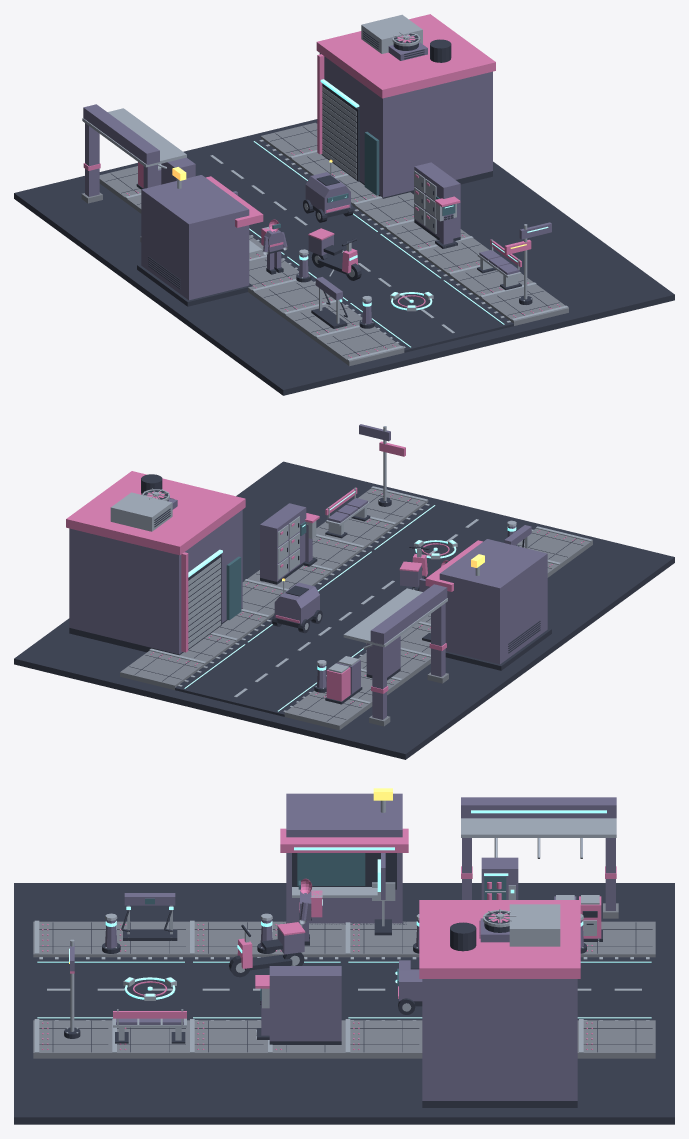
File: neon-dispatch.glb
3 renders of one model, top to bottom at view 1: azimuth 30°, elevation 25°; view 2: azimuth 150°, elevation 25°; view 3: azimuth 270°, elevation 25°, orthographic. The views are drawn at different scales.
Visible parts, largest first — view 1: terrain-base, 21-neon-dispatch-parcel-hub/shell, 22-neon-dispatch-dispatch-kiosk/shell, 21-neon-dispatch-parcel-hub/accent, 04-neon-dispatch-courier-lane/dark, 03-neon-dispatch-courier-lane/dark, 01-neon-dispatch-courier-lane/dark, 21-neon-dispatch-parcel-hub/metal, 02-neon-dispatch-courier-lane/dark, 23-neon-dispatch-arcade-front/shell, 12-neon-dispatch-pavement-strip/paving, 21-neon-dispatch-parcel-hub/dark (+22 smaller); view 2: terrain-base, 21-neon-dispatch-parcel-hub/shell, 22-neon-dispatch-dispatch-kiosk/shell, 21-neon-dispatch-parcel-hub/accent, 01-neon-dispatch-courier-lane/dark, 04-neon-dispatch-courier-lane/dark, 02-neon-dispatch-courier-lane/dark, 21-neon-dispatch-parcel-hub/metal, 03-neon-dispatch-courier-lane/dark, 23-neon-dispatch-arcade-front/shell, 24-neon-dispatch-parcel-lockers/shell, 13-neon-dispatch-pavement-strip/paving (+22 smaller); view 3: terrain-base, 21-neon-dispatch-parcel-hub/shell, 21-neon-dispatch-parcel-hub/accent, 04-neon-dispatch-courier-lane/dark, 22-neon-dispatch-dispatch-kiosk/shell, 24-neon-dispatch-parcel-lockers/shell, 01-neon-dispatch-courier-lane/dark, 03-neon-dispatch-courier-lane/dark, 23-neon-dispatch-arcade-front/shell, 02-neon-dispatch-courier-lane/dark, 23-neon-dispatch-arcade-front/metal, 16-neon-dispatch-pavement-strip/paving (+28 smaller).
Part boxes in pixels (box(x1,y1,x2,y2)): terrain-base: box(14, 119, 674, 395); 21-neon-dispatch-parcel-hub/shell: box(319, 53, 492, 197); 22-neon-dispatch-dispatch-kiosk/shell: box(141, 175, 249, 300); 21-neon-dispatch-parcel-hub/accent: box(316, 14, 495, 154); 04-neon-dispatch-courier-lane/dark: box(344, 277, 513, 352); 03-neon-dispatch-courier-lane/dark: box(281, 231, 450, 303); 01-neon-dispatch-courier-lane/dark: box(187, 138, 311, 202); 21-neon-dispatch-parcel-hub/metal: box(322, 14, 422, 179); 02-neon-dispatch-courier-lane/dark: box(248, 189, 386, 256); 23-neon-dispatch-arcade-front/shell: box(83, 104, 159, 196); 12-neon-dispatch-pavement-strip/paving: box(317, 326, 404, 366); 21-neon-dispatch-parcel-hub/dark: box(321, 31, 492, 198); terrain-base: box(14, 461, 674, 759); 21-neon-dispatch-parcel-hub/shell: box(69, 510, 242, 654); 22-neon-dispatch-dispatch-kiosk/shell: box(439, 539, 547, 664); 21-neon-dispatch-parcel-hub/accent: box(66, 471, 245, 652); 01-neon-dispatch-courier-lane/dark: box(175, 641, 333, 716); 04-neon-dispatch-courier-lane/dark: box(365, 502, 535, 566); 02-neon-dispatch-courier-lane/dark: box(238, 599, 372, 664); 21-neon-dispatch-parcel-hub/metal: box(110, 492, 220, 648); 03-neon-dispatch-courier-lane/dark: box(314, 549, 440, 612); 23-neon-dispatch-arcade-front/shell: box(370, 584, 447, 719); 24-neon-dispatch-parcel-lockers/shell: box(260, 503, 306, 581); 13-neon-dispatch-pavement-strip/paving: box(120, 651, 206, 689); terrain-base: box(14, 883, 674, 1124); 21-neon-dispatch-parcel-hub/shell: box(422, 979, 577, 1100); 21-neon-dispatch-parcel-hub/accent: box(419, 900, 580, 978); 04-neon-dispatch-courier-lane/dark: box(33, 957, 188, 1020); 22-neon-dispatch-dispatch-kiosk/shell: box(286, 793, 402, 923); 24-neon-dispatch-parcel-lockers/shell: box(269, 966, 341, 1041); 01-neon-dispatch-courier-lane/dark: box(577, 957, 655, 1020); 03-neon-dispatch-courier-lane/dark: box(189, 957, 344, 1020); 23-neon-dispatch-arcade-front/shell: box(461, 797, 616, 910); 02-neon-dispatch-courier-lane/dark: box(344, 957, 422, 1020); 23-neon-dispatch-arcade-front/metal: box(461, 818, 616, 858); 16-neon-dispatch-pavement-strip/paving: box(344, 1020, 422, 1058).
Bounding box in the file's own units: 14.27 × 4.74 × 17.
